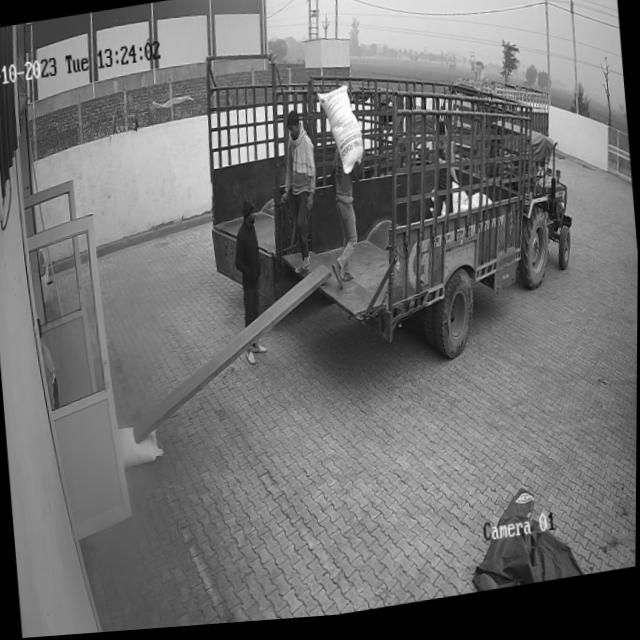sack: (316, 87, 366, 184), (118, 424, 162, 470)
